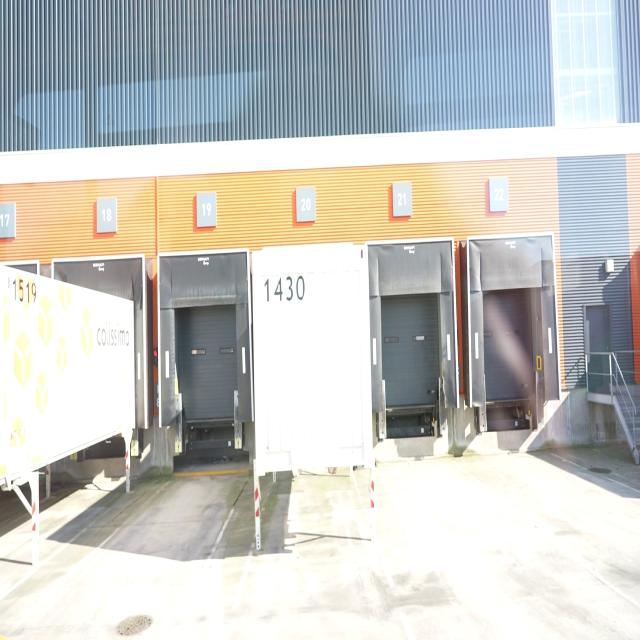Code: (262, 266, 307, 307), (8, 272, 41, 308)
